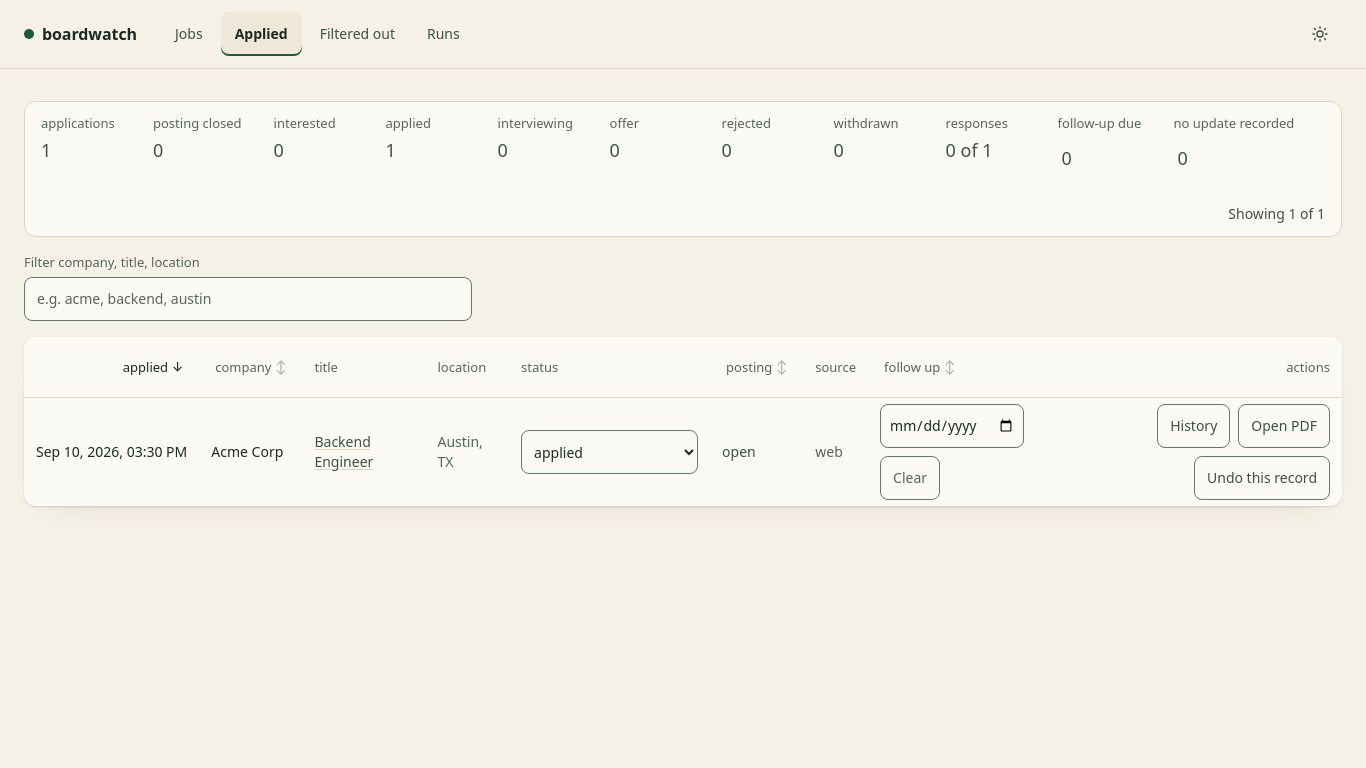
Test: the application lifecycle › explains an empty save beside the box instead of disabling the button
Click the button with aria-label "History of Acme Corp — Backend Engineer" at coordinates (1194, 426), box [1157,404,1230,448]
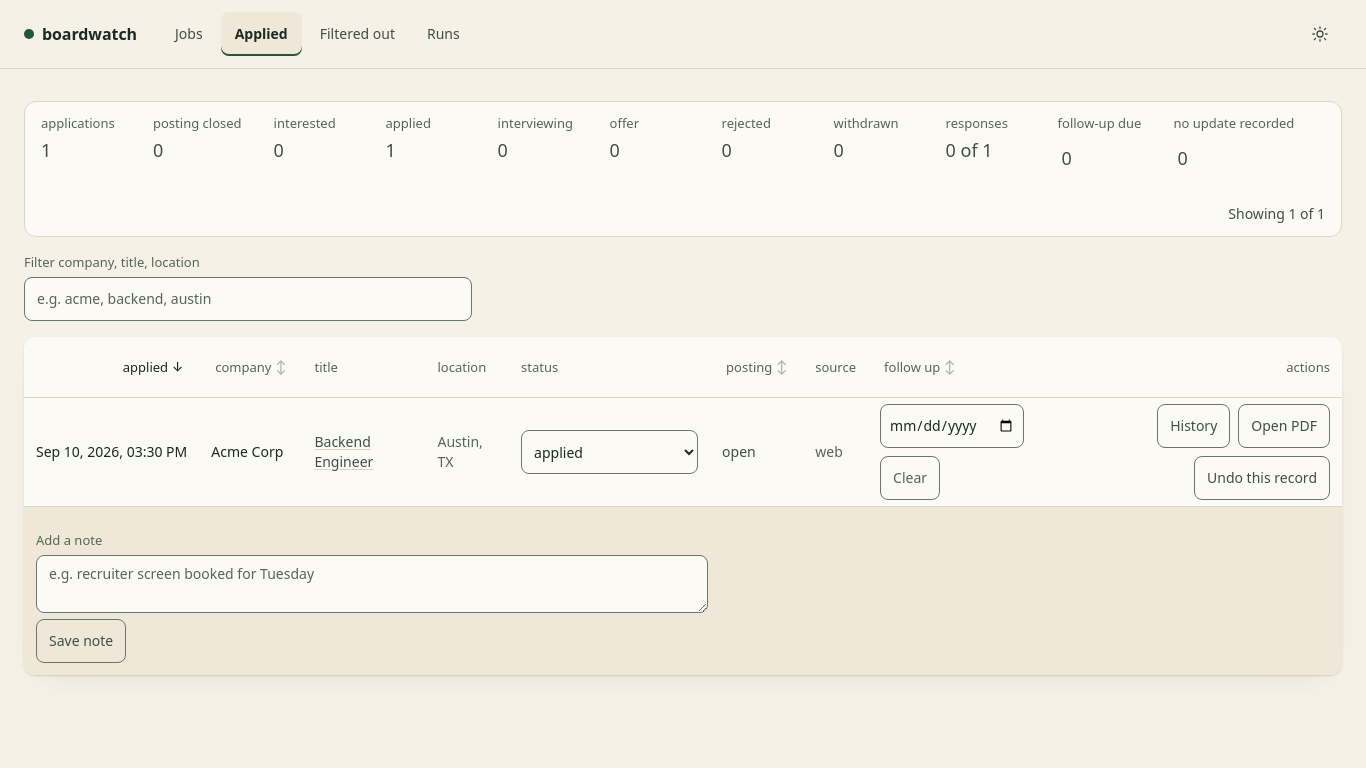
Expected: the button "Save note" is enabled
Click the button "Save note" at coordinates (81, 641), box [36,619,126,663]
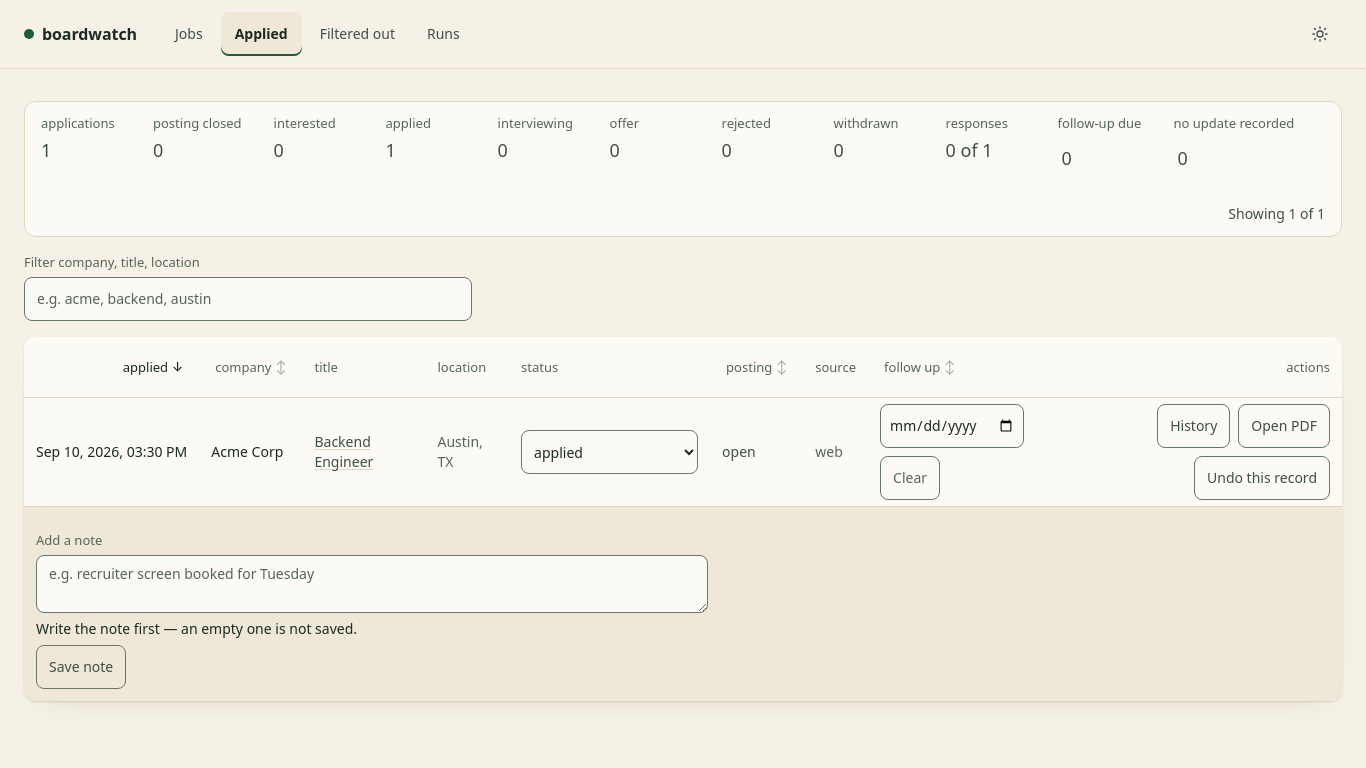
Expected: the text "Write the note first — an empty one is not saved." is shown, [36,619,357,638]
